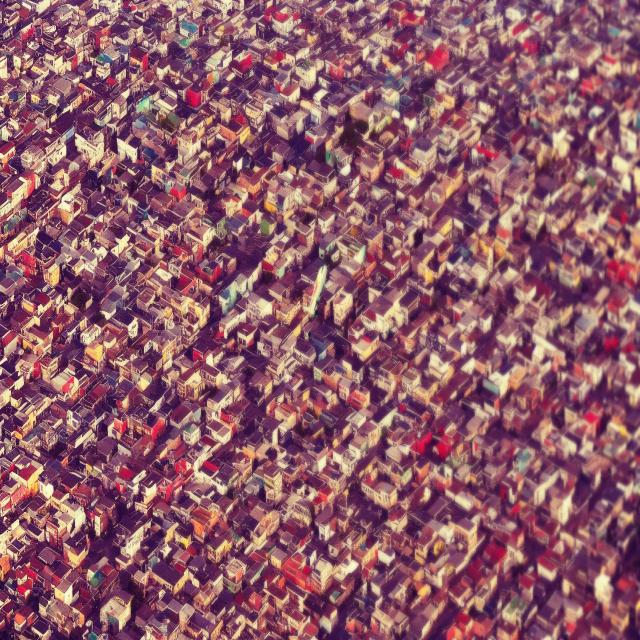airplane: (307, 262, 328, 316)
